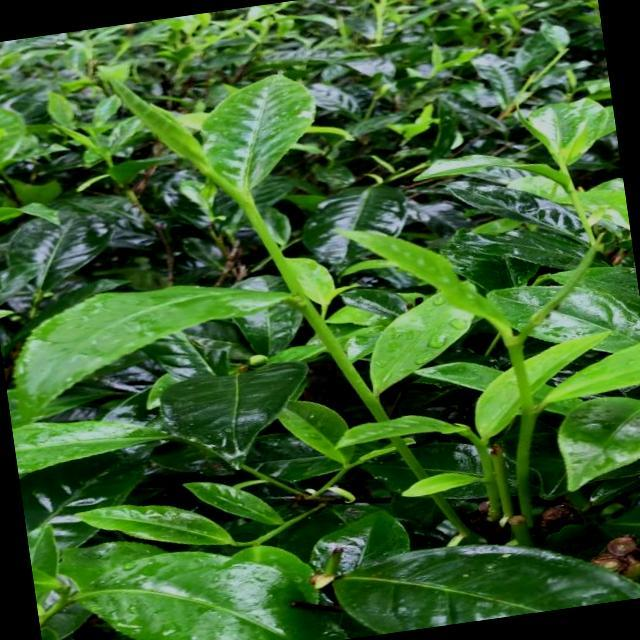Stem: (507, 343, 525, 362), (240, 196, 257, 215)
